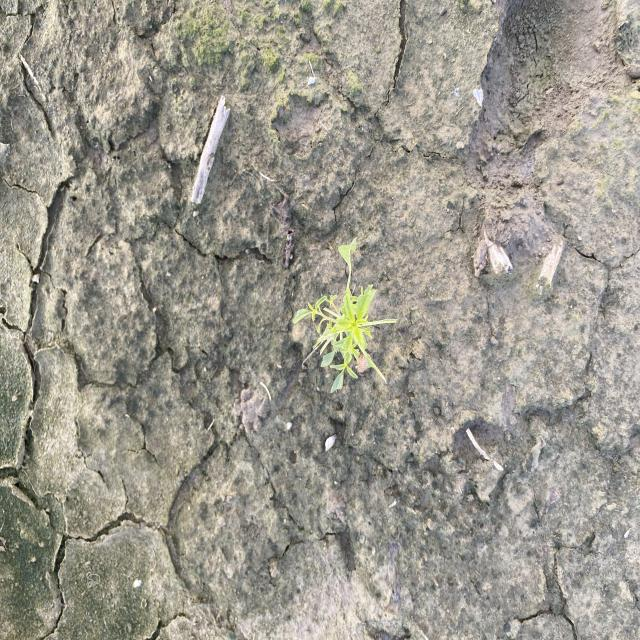Waterhemp: (291, 236, 398, 394)
